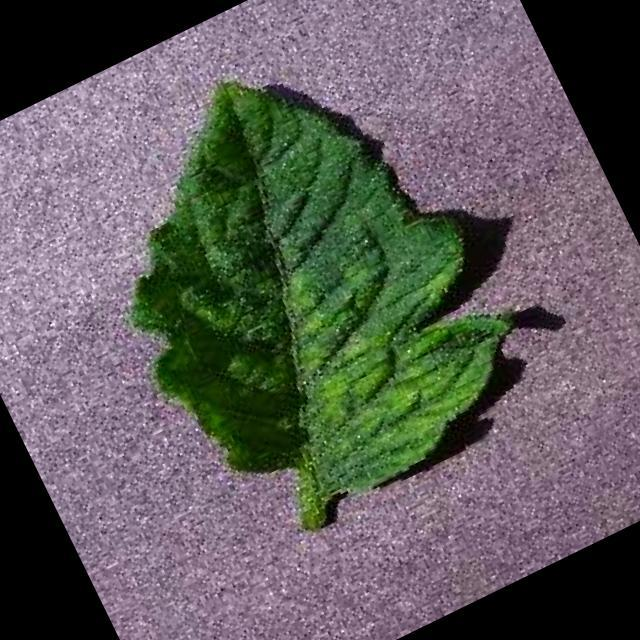Tomato mosaic virus leaf: (52, 10, 553, 552)
